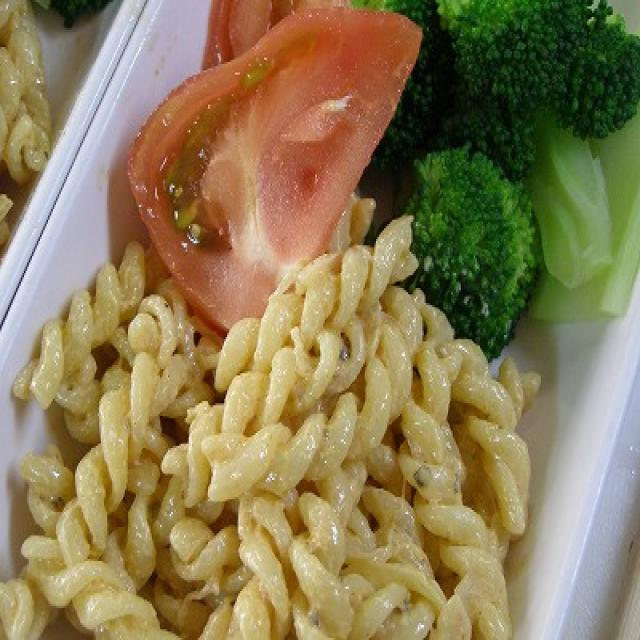蔬菜料理: (0, 179, 571, 640)
